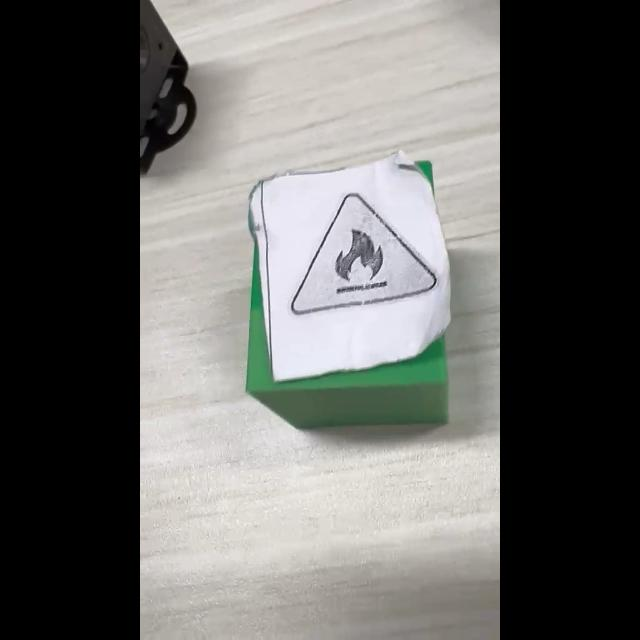Fire: (292, 193, 436, 315)
